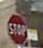stop: (6, 10, 28, 46)
